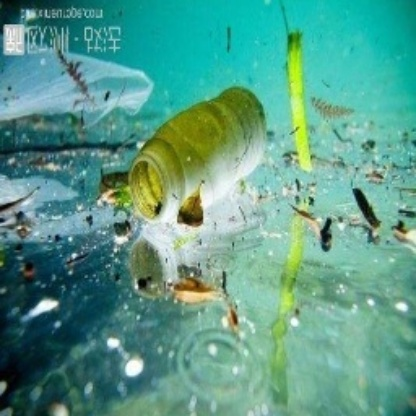bottle: (127, 91, 274, 225)
